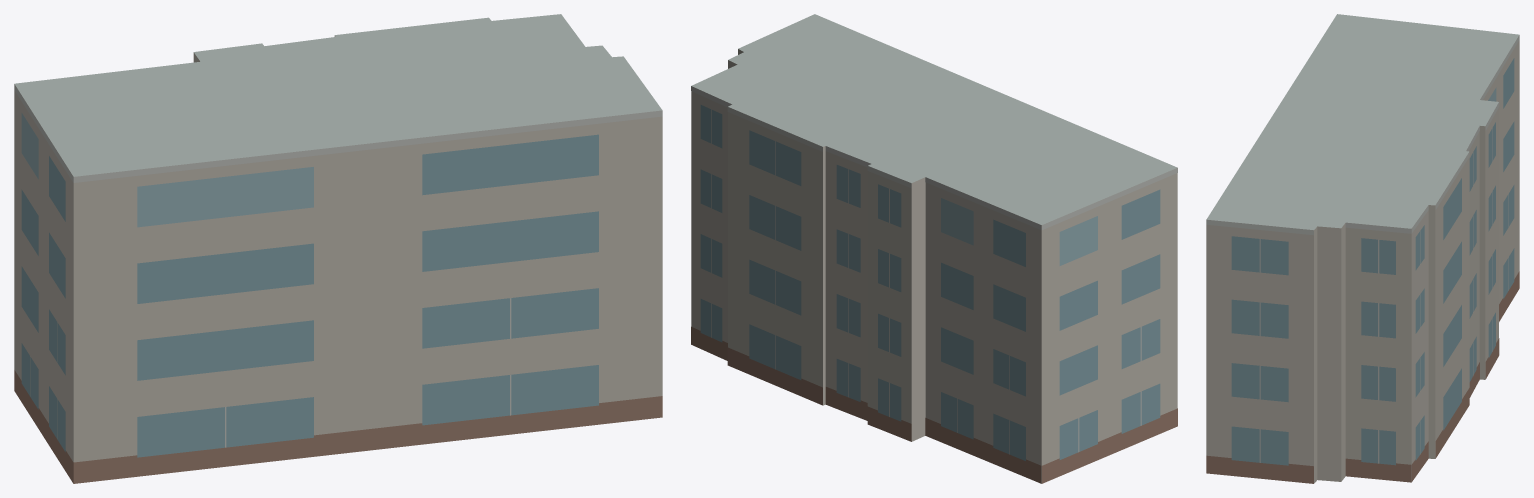
The model's file is survey-upis-32576258.glb.
3 renders of one model, left to right at view 1: azimuth 30°, elevation 25°; view 2: azimuth 150°, elevation 25°; view 3: azimuth 270°, elevation 25°, orthographic. The views are drawn at different scales.
Visible parts, largest first — view 1: survey-upis-32576258.tmp; view 2: survey-upis-32576258.tmp; view 3: survey-upis-32576258.tmp.
Boxes of the visible parts, <box> form: survey-upis-32576258.tmp: <box>14,14,662,483</box>; survey-upis-32576258.tmp: <box>691,14,1177,483</box>; survey-upis-32576258.tmp: <box>1206,14,1519,483</box>.
Size of the model in its own units: 22.3 by 12.2 by 13.66.
